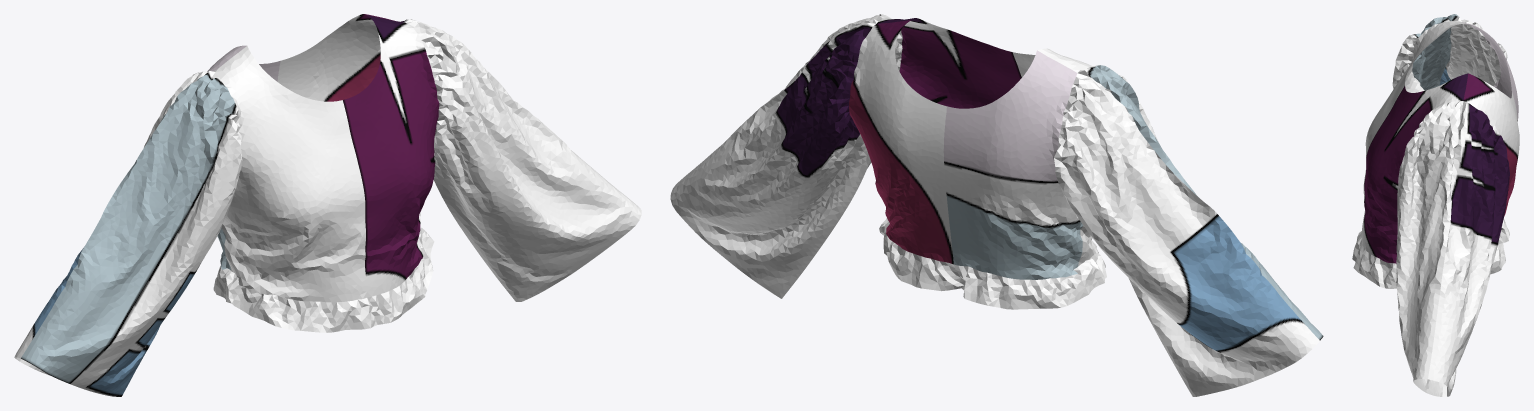
Rendered from gcdv2_mvp_000008.obj.
3 views of the same model, side by side, from view 1: azimuth 30°, elevation 25°; view 2: azimuth 150°, elevation 25°; view 3: azimuth 270°, elevation 25° (orthographic). The views are drawn at different scales.
Size of the model in its own units: 107 by 51.58 by 29.42.
1 material, 1 textured.
